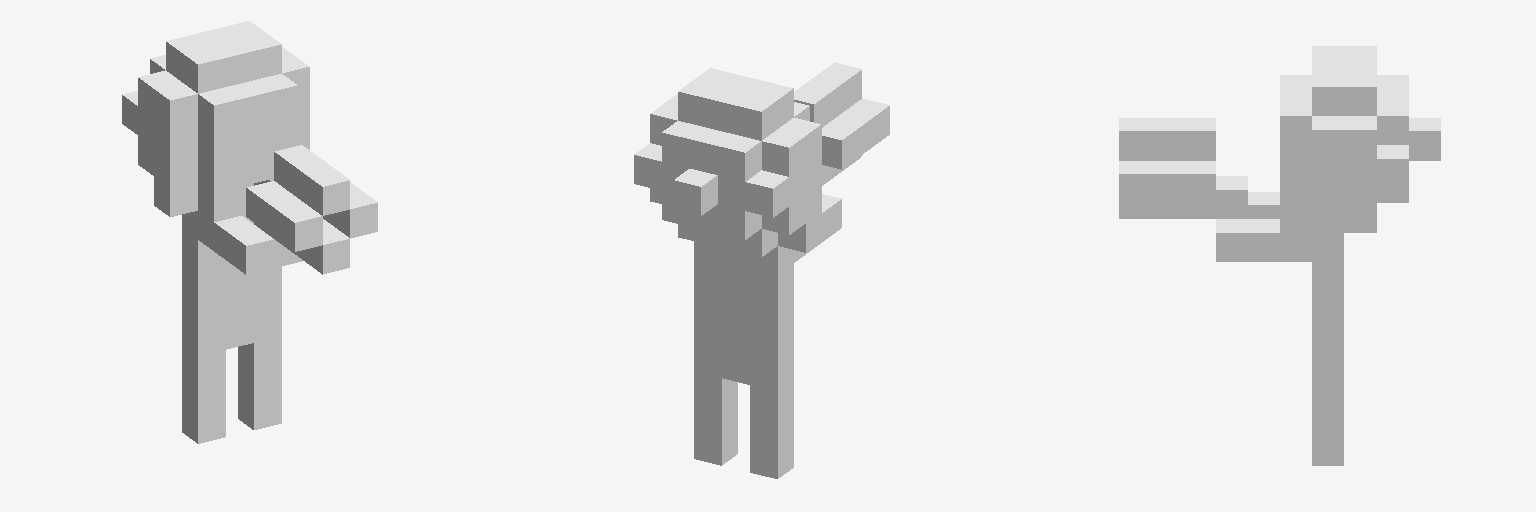
The model's file is Snowwarrior.obj.
3 views of the same model, side by side, from view 1: azimuth 30°, elevation 25°; view 2: azimuth 150°, elevation 25°; view 3: azimuth 270°, elevation 25° (orthographic).
Bounding box in the file's own units: 5 × 13 × 10.